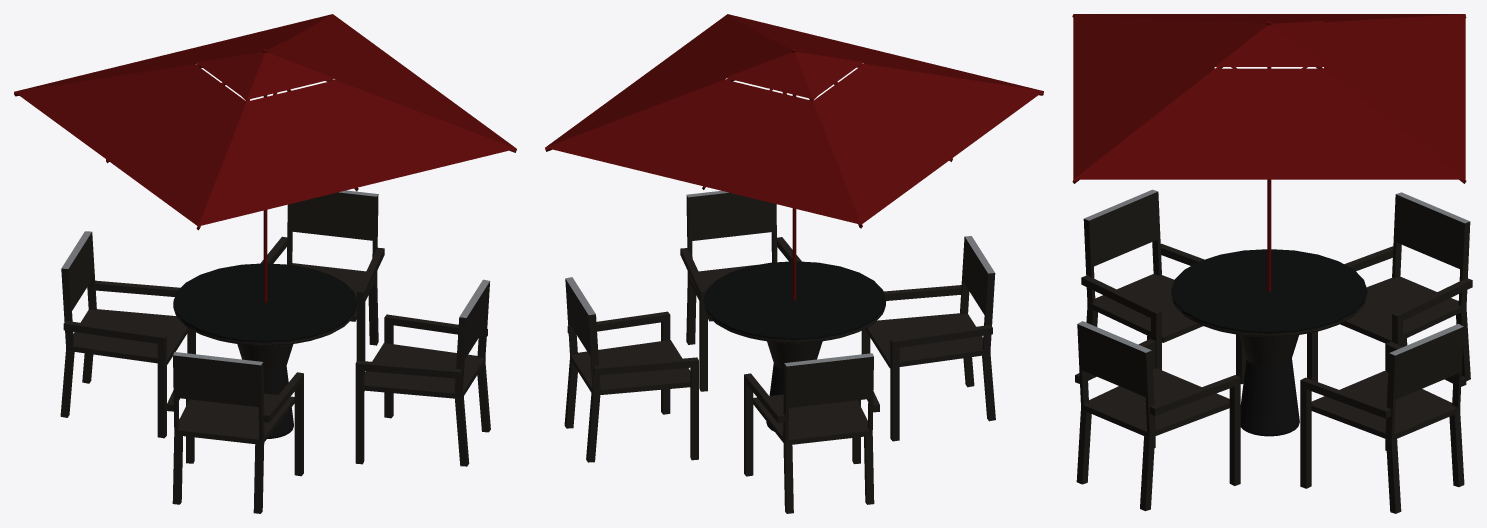
Rendered from kafic-set-crvena.glb.
The picture shows the model from 3 angles, left to right: view 1: azimuth 30°, elevation 25°; view 2: azimuth 150°, elevation 25°; view 3: azimuth 270°, elevation 25°; orthographic projection. The views are drawn at different scales.
Visible parts, largest first — view 1: kafic-set-crvena; view 2: kafic-set-crvena; view 3: kafic-set-crvena.
Part boxes in pixels (x1=…): kafic-set-crvena: x1=14, y1=14, x2=516, y2=513; kafic-set-crvena: x1=545, y1=14, x2=1043, y2=513; kafic-set-crvena: x1=1072, y1=14, x2=1472, y2=513.
Size of the model in its own units: 3 by 3.27 by 2.92.
1 material, 1 textured.
